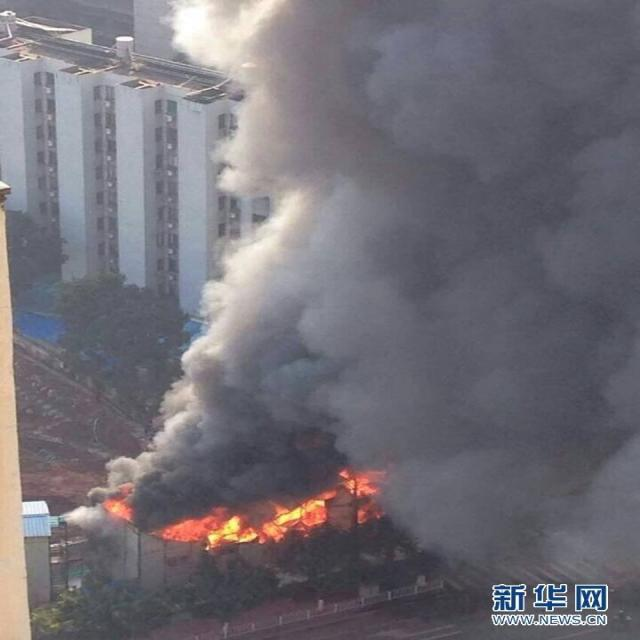Fire: (159, 468, 390, 551), (102, 497, 134, 523)
Smoke: (58, 1, 640, 576)
